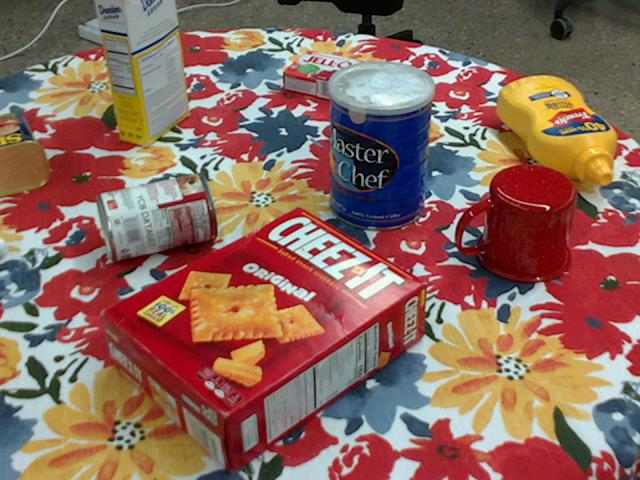cracker_box: (99, 208, 424, 474)
gelatin_box: (280, 52, 366, 104)
large_marker: (0, 237, 6, 255)
master_chef_can: (328, 61, 435, 232)
mug: (457, 164, 577, 284)
mustard_bottle: (495, 75, 615, 184)
potted_meat_can: (0, 112, 48, 195)
sugar_box: (96, 0, 188, 144)
tomato_soup_can: (94, 172, 216, 261)
tuna_fish_can: (336, 95, 410, 154)
